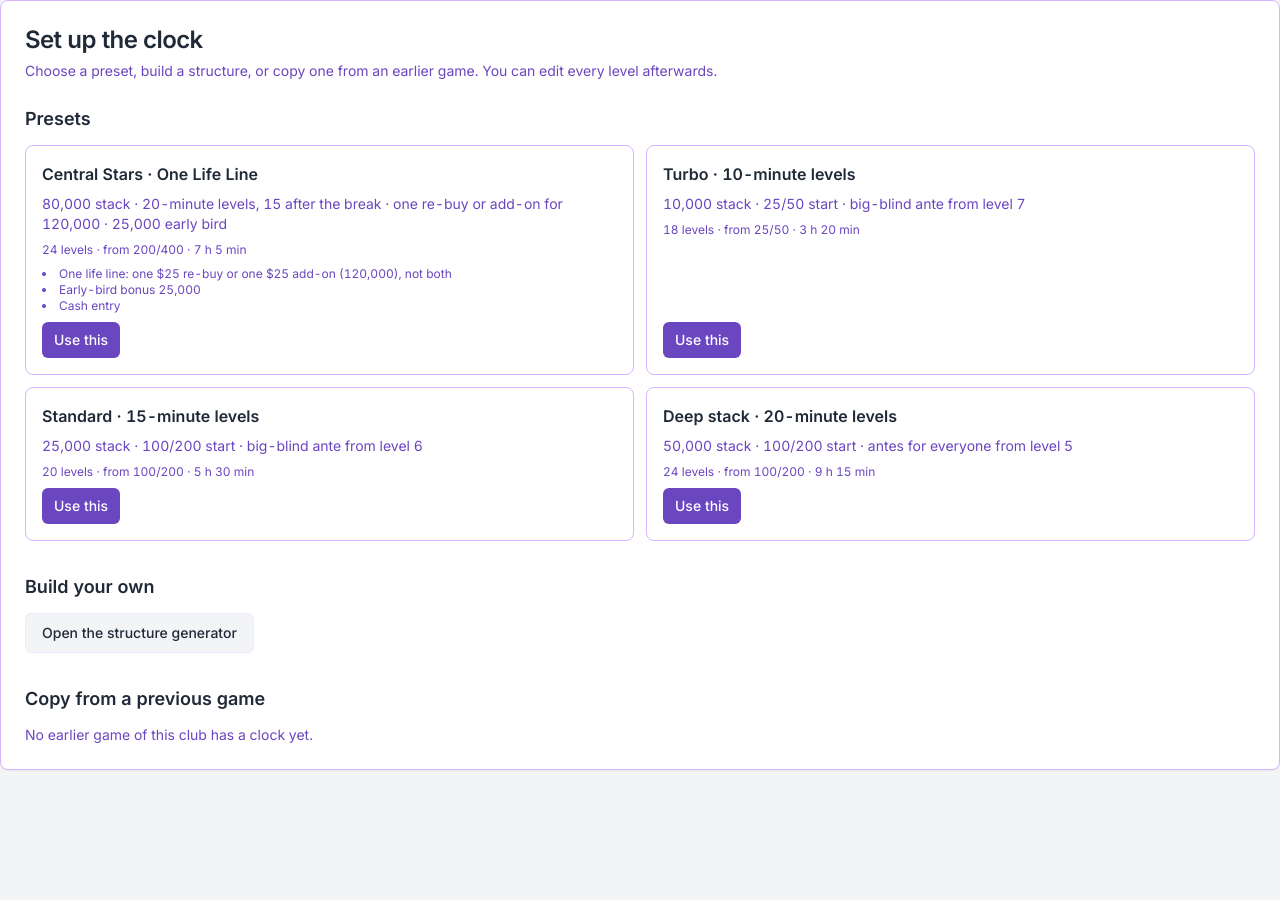
Test: ClockPanel without a clock › shows the clock someone else set up first
This screenshot has width=1280, height=900.
Click the button with aria-label "Use this: Turbo · 10-minute levels": (702, 340) [663,322,741,358]
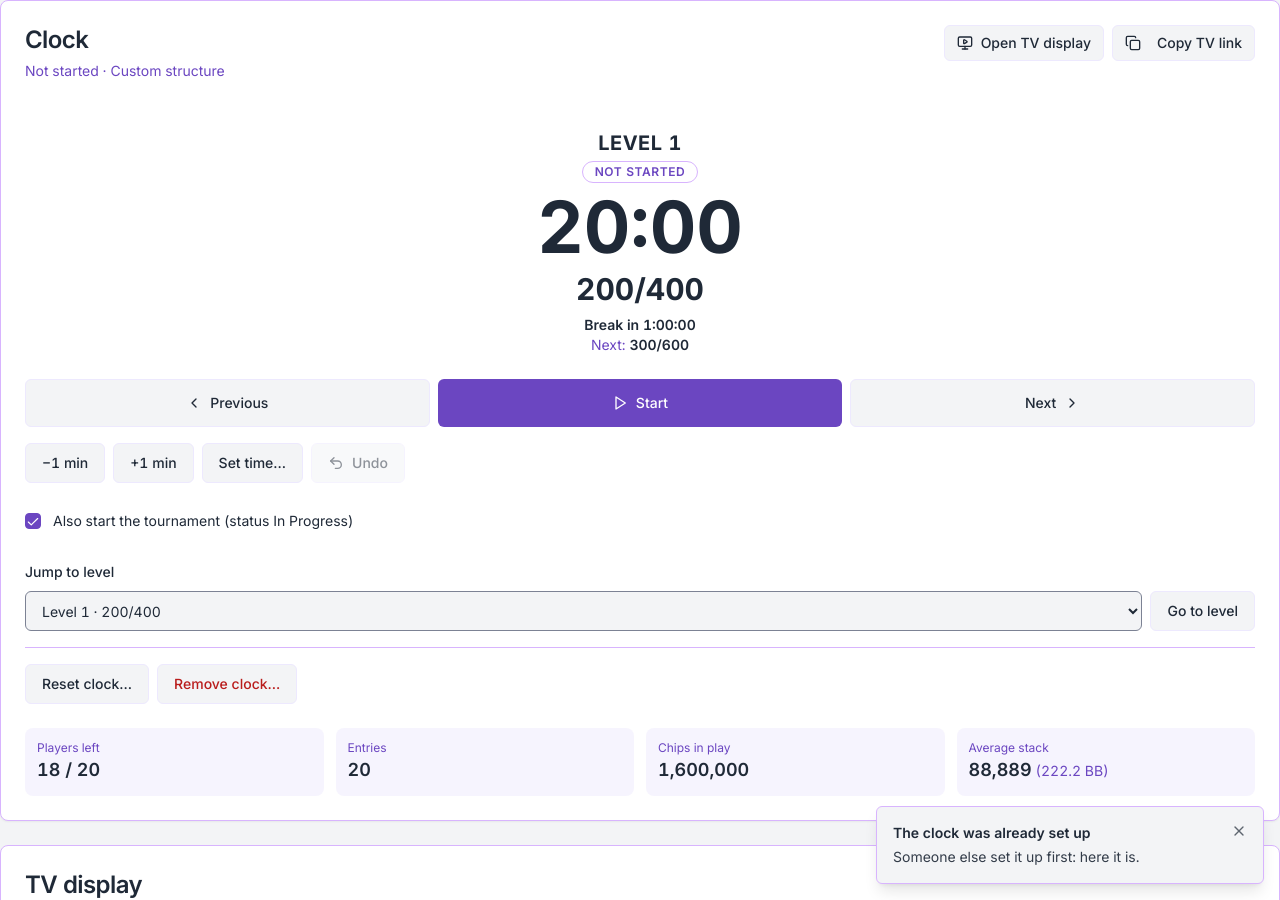
Check: the text "The clock was already set up" is shown, box [893,824,1090,841]
Check: the element with test id "clock-face" is shown, box [537,131,743,353]
